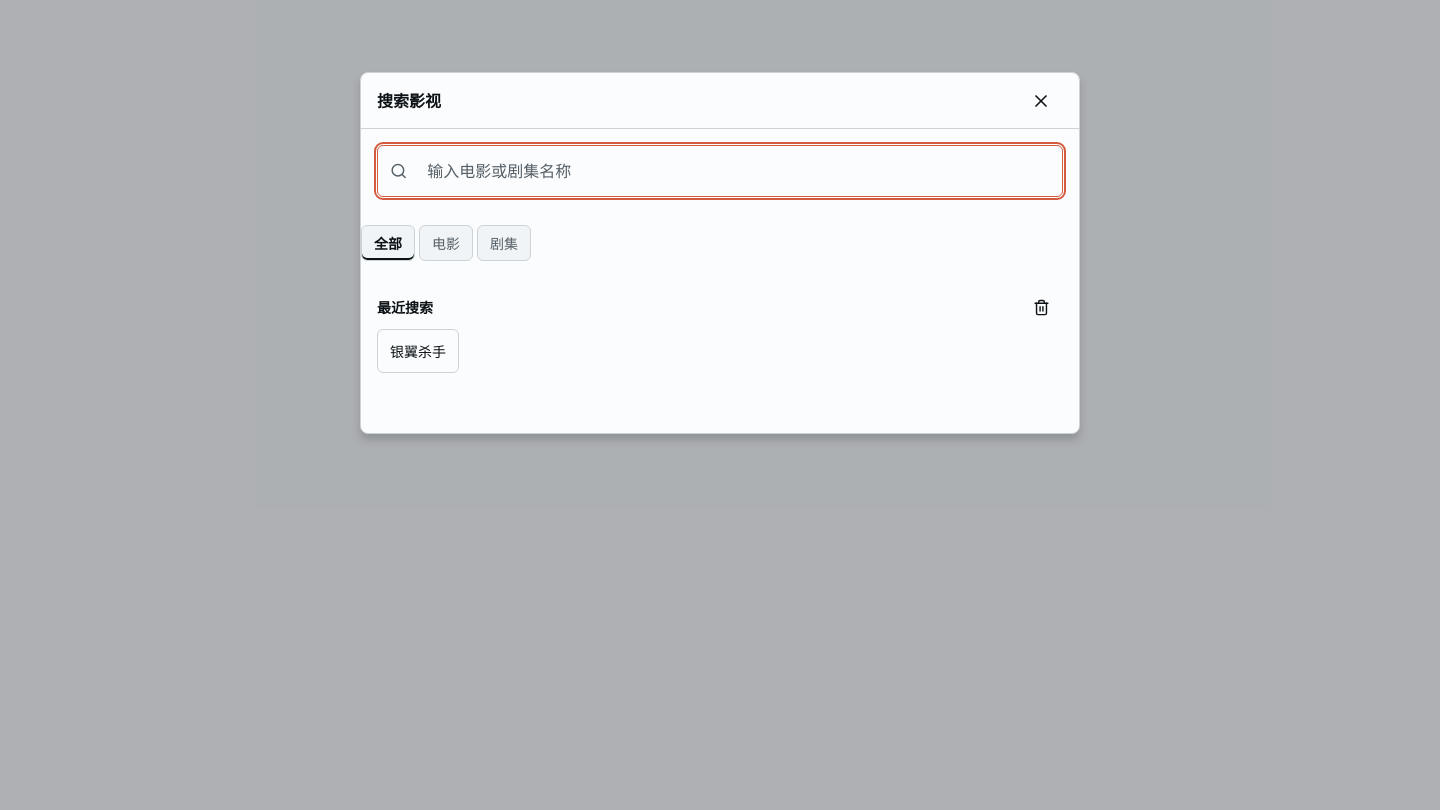
Test: SearchDialog › shows recent searches for an empty query, refills one to search, and clears history
Step 1. Click the button "银翼杀手" → (418, 351), box [377, 329, 459, 373]
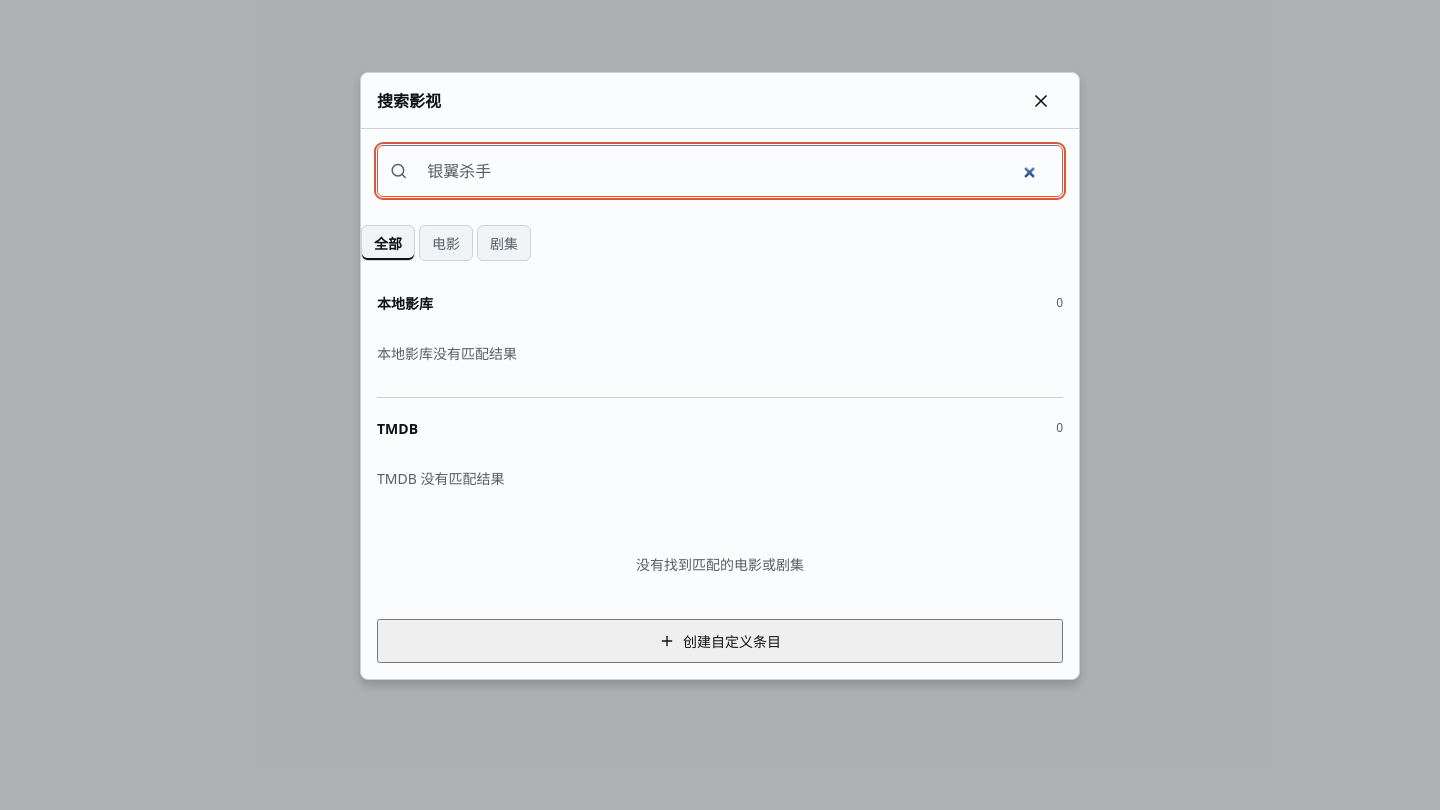
Result: the search field named "搜索影视" holds "银翼杀手"
Step 2. Clear the search field named "搜索影视" → (733, 171), box [415, 149, 1050, 193]
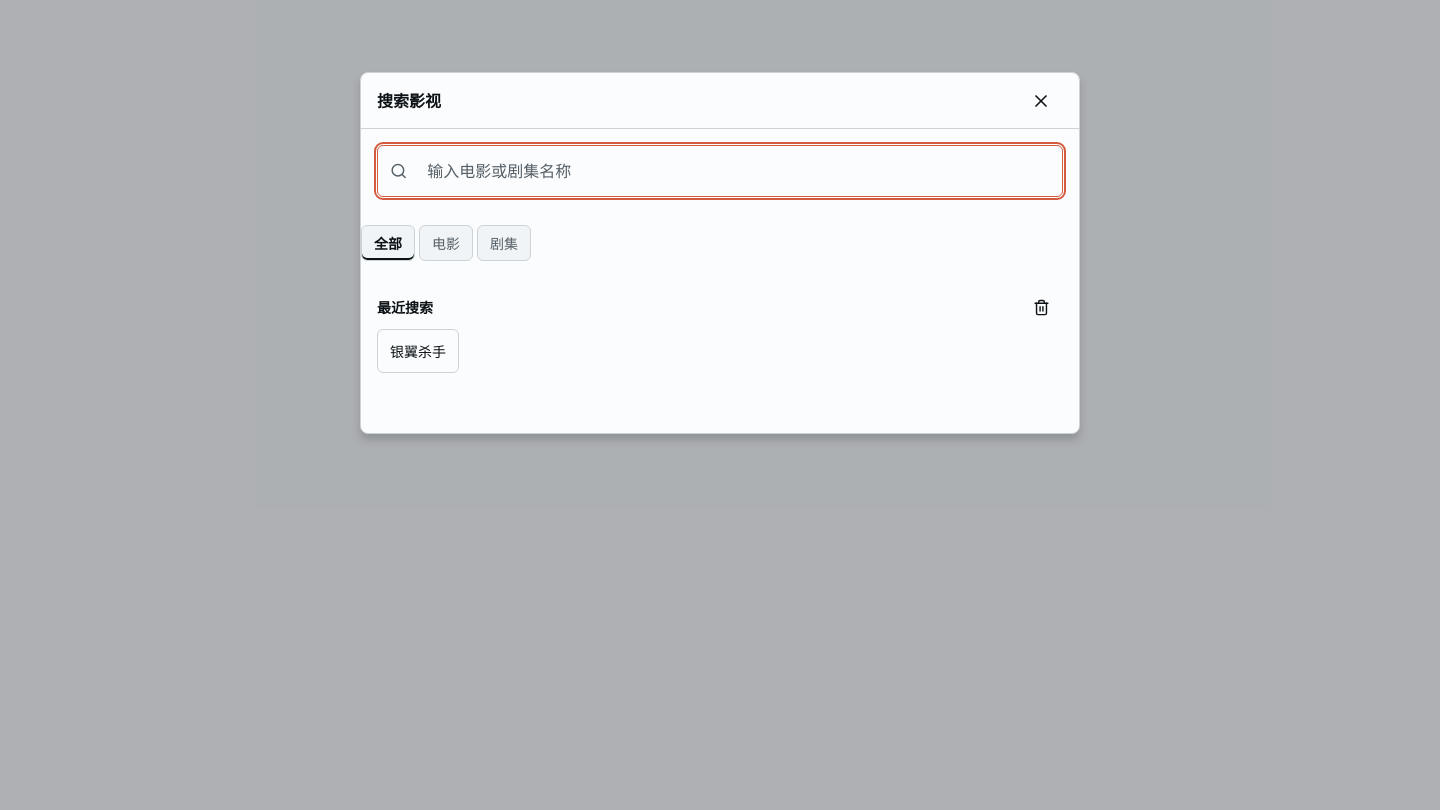
Step 3. Click the button named "清除最近搜索" → (1041, 307), box [1019, 285, 1063, 329]
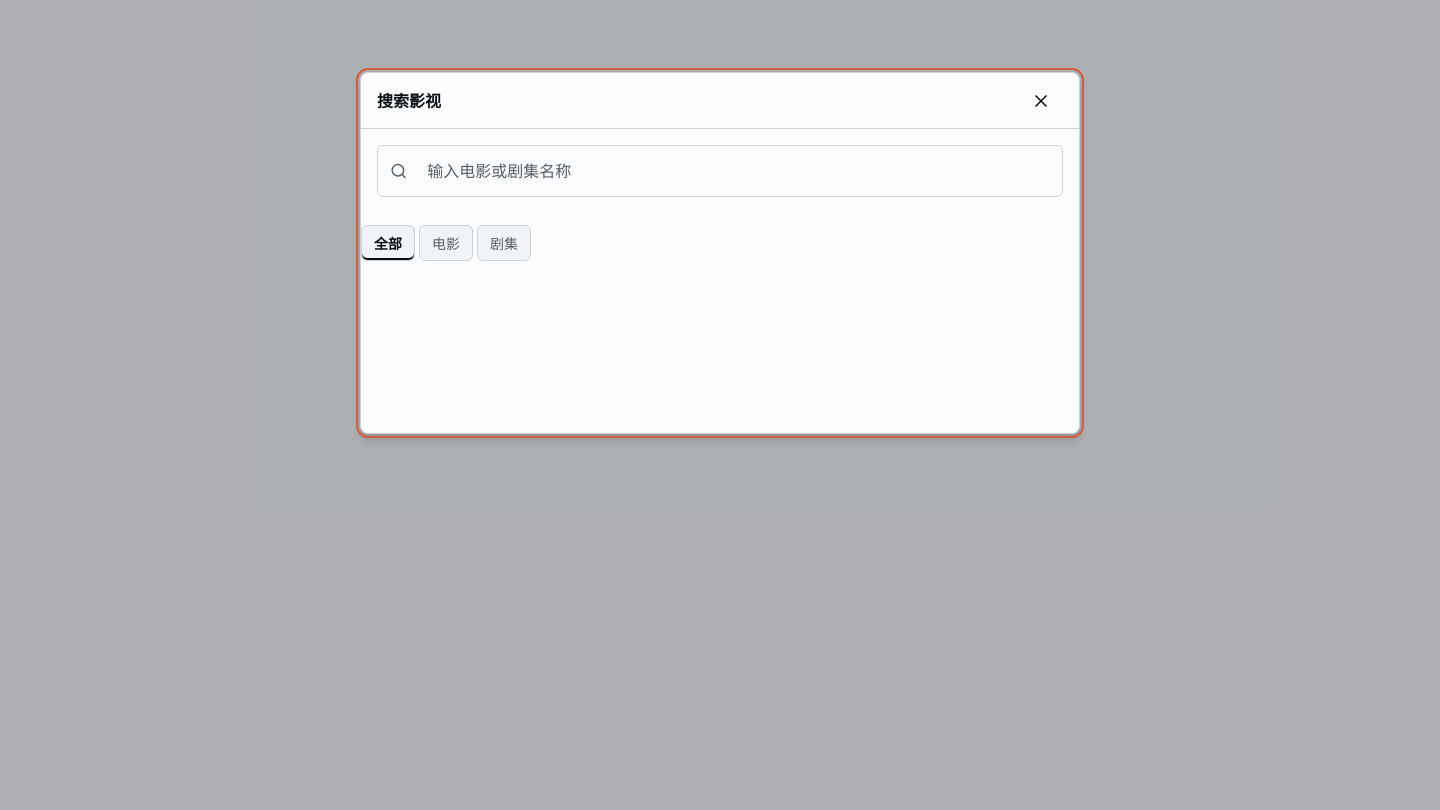
Result: the heading "最近搜索" is gone
